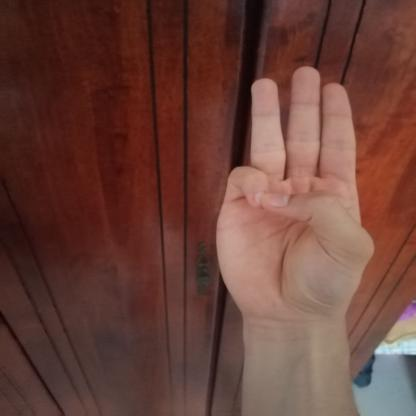THA: (192, 51, 389, 333)
